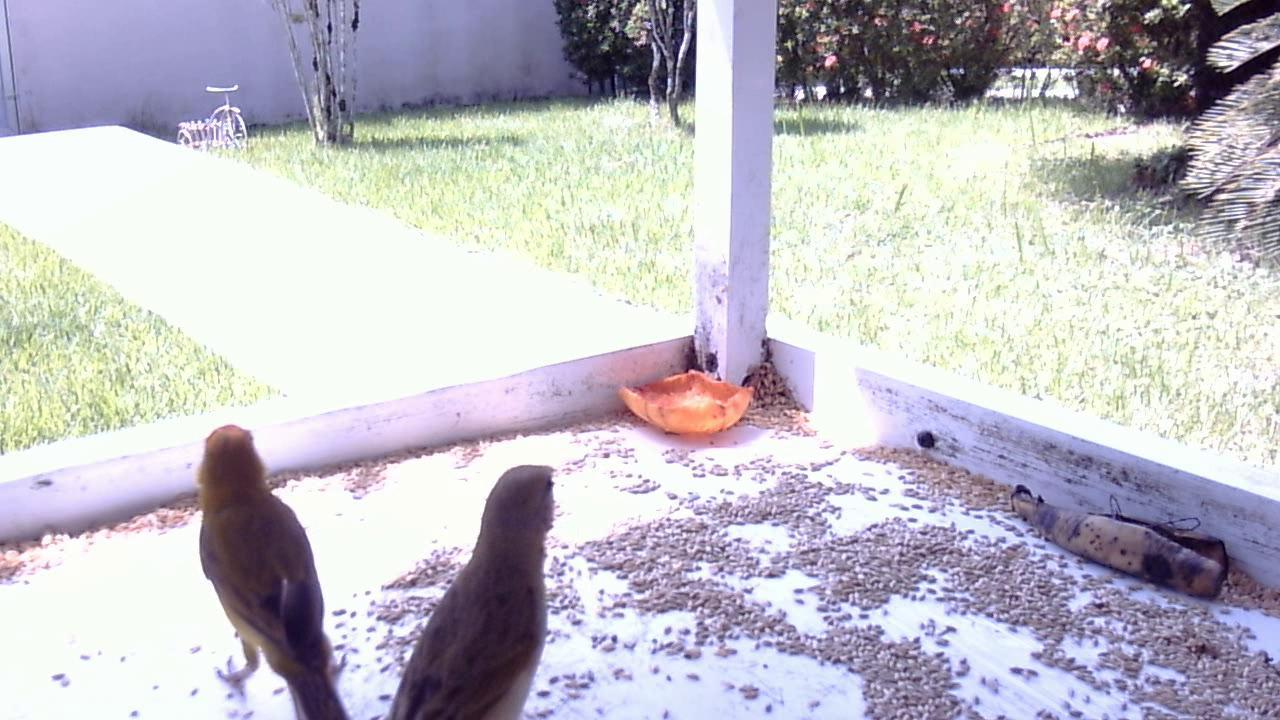canario_do_amazonas: (182, 406, 357, 718), (367, 452, 572, 713)
